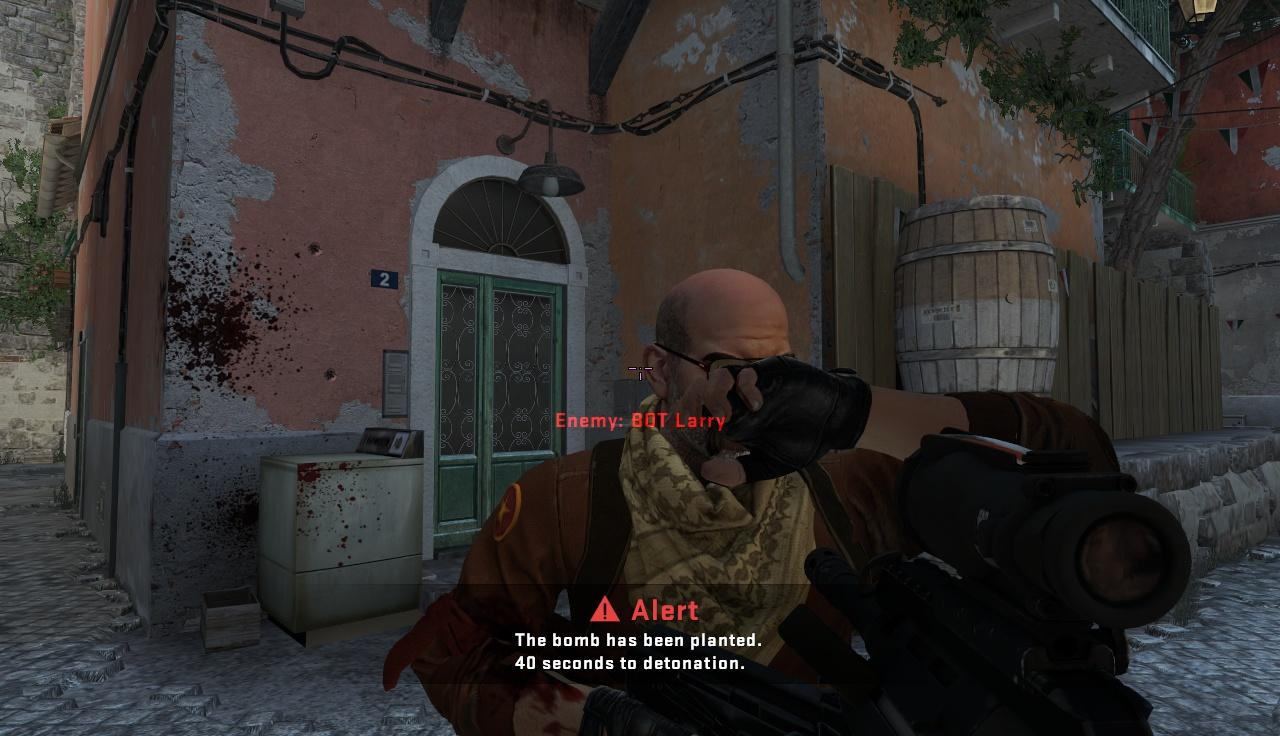rifle: (786, 419, 1189, 732)
tthead: (649, 263, 787, 480)
